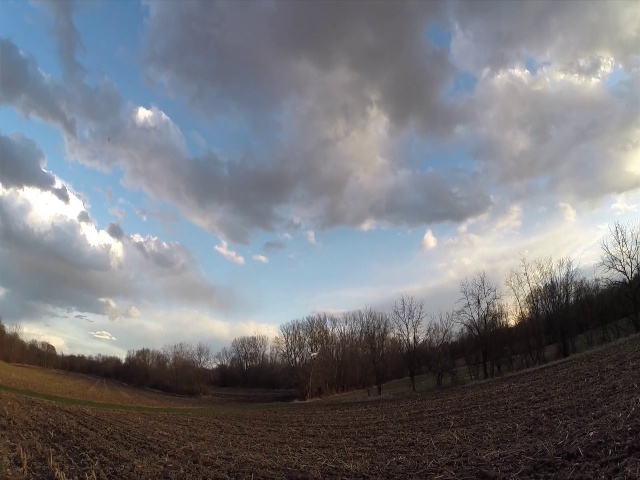drone: (308, 351, 319, 358)
